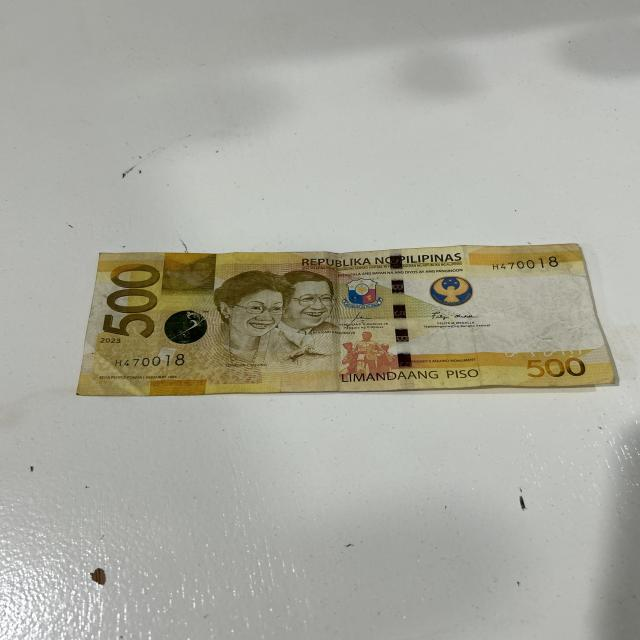concealed_value: (162, 258, 214, 292)
optically_variable_device: (164, 304, 210, 343)
see_through_mark: (498, 347, 584, 358)
